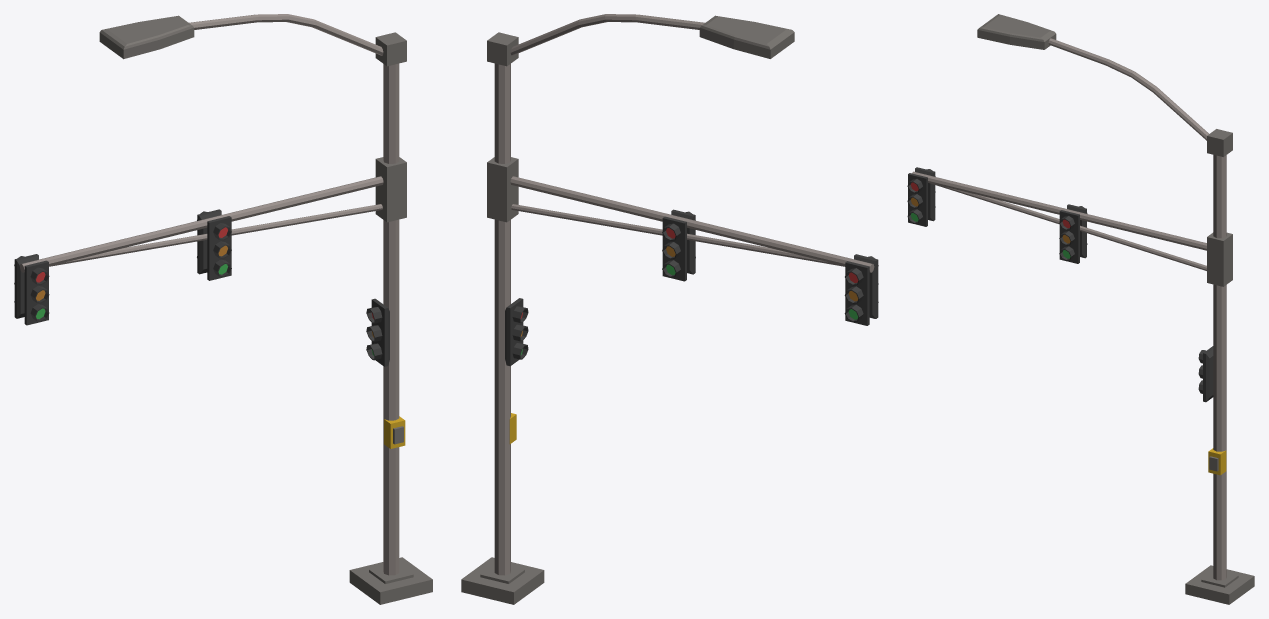
File: Light_02.fbx
The picture shows the model from 3 angles, left to right: view 1: azimuth 30°, elevation 25°; view 2: azimuth 150°, elevation 25°; view 3: azimuth 330°, elevation 25°; orthographic projection. The views are drawn at different scales.
Visible parts, largest first — view 1: Light_02; view 2: Light_02; view 3: Light_02.
Boxes of the visible parts, x1,y1,x2,y2 form: Light_02: [14, 14, 432, 604]; Light_02: [461, 14, 878, 604]; Light_02: [907, 14, 1254, 604].
Size of the model in its own units: 6.26 by 9.31 by 0.8308.
